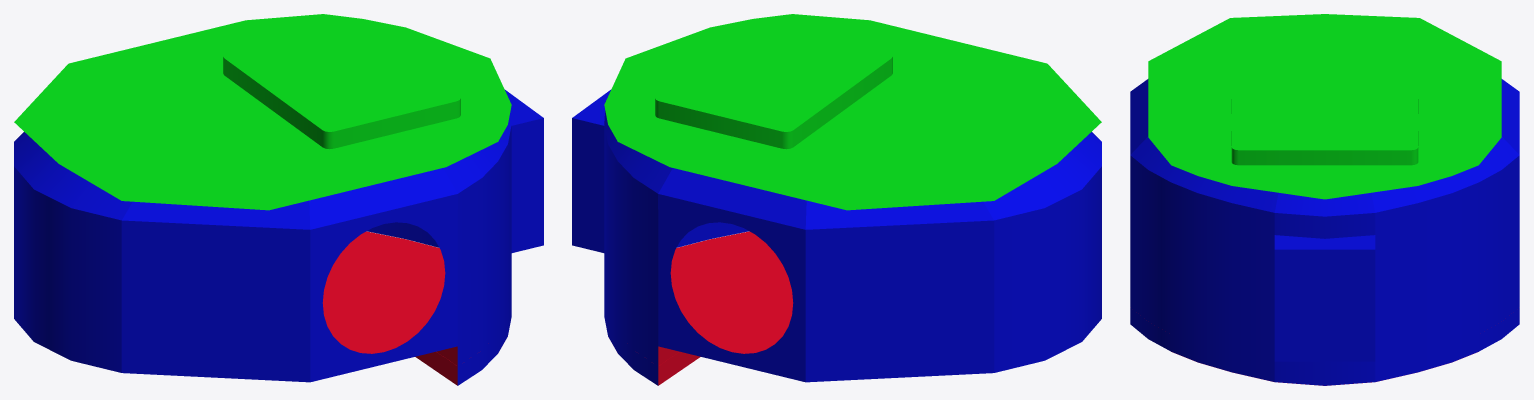
Rendered from lounge_room 1.fbx.
3 renders of one model, left to right at view 1: azimuth 30°, elevation 25°; view 2: azimuth 150°, elevation 25°; view 3: azimuth 270°, elevation 25°, orthographic. The views are drawn at different scales.
Parts seen in each view (by area): view 1: LoungeWalls.004, LoungeWalls, LoungeWalls.005, LoungeFloor.002, LoungeWalls.006, LoungeFloor, LoungeFloor.001; view 2: LoungeWalls.004, LoungeWalls, LoungeWalls.005, LoungeFloor.002, LoungeWalls.006, LoungeFloor, LoungeFloor.001; view 3: LoungeWalls.004, LoungeWalls, LoungeWalls.006, LoungeWalls.005.
Part boxes in pixels (left/top/right/bottom): LoungeWalls.004: left=14, top=14, right=511, bottom=210; LoungeWalls: left=14, top=101, right=511, bottom=385; LoungeWalls.005: left=309, top=168, right=457, bottom=382; LoungeFloor.002: left=323, top=231, right=456, bottom=365; LoungeWalls.006: left=504, top=89, right=543, bottom=252; LoungeFloor: left=322, top=296, right=425, bottom=353; LoungeFloor.001: left=415, top=346, right=457, bottom=385; LoungeWalls.004: left=604, top=14, right=1101, bottom=210; LoungeWalls: left=604, top=101, right=1101, bottom=385; LoungeWalls.005: left=658, top=168, right=806, bottom=382; LoungeFloor.002: left=659, top=231, right=792, bottom=365; LoungeWalls.006: left=572, top=89, right=611, bottom=252; LoungeFloor: left=690, top=296, right=793, bottom=353; LoungeFloor.001: left=658, top=346, right=700, bottom=385; LoungeWalls.004: left=1148, top=14, right=1501, bottom=199; LoungeWalls: left=1130, top=136, right=1519, bottom=381; LoungeWalls.006: left=1274, top=193, right=1375, bottom=385; LoungeWalls.005: left=1130, top=79, right=1519, bottom=154.
Bounding box in the file's own units: 993 × 451 × 790.
